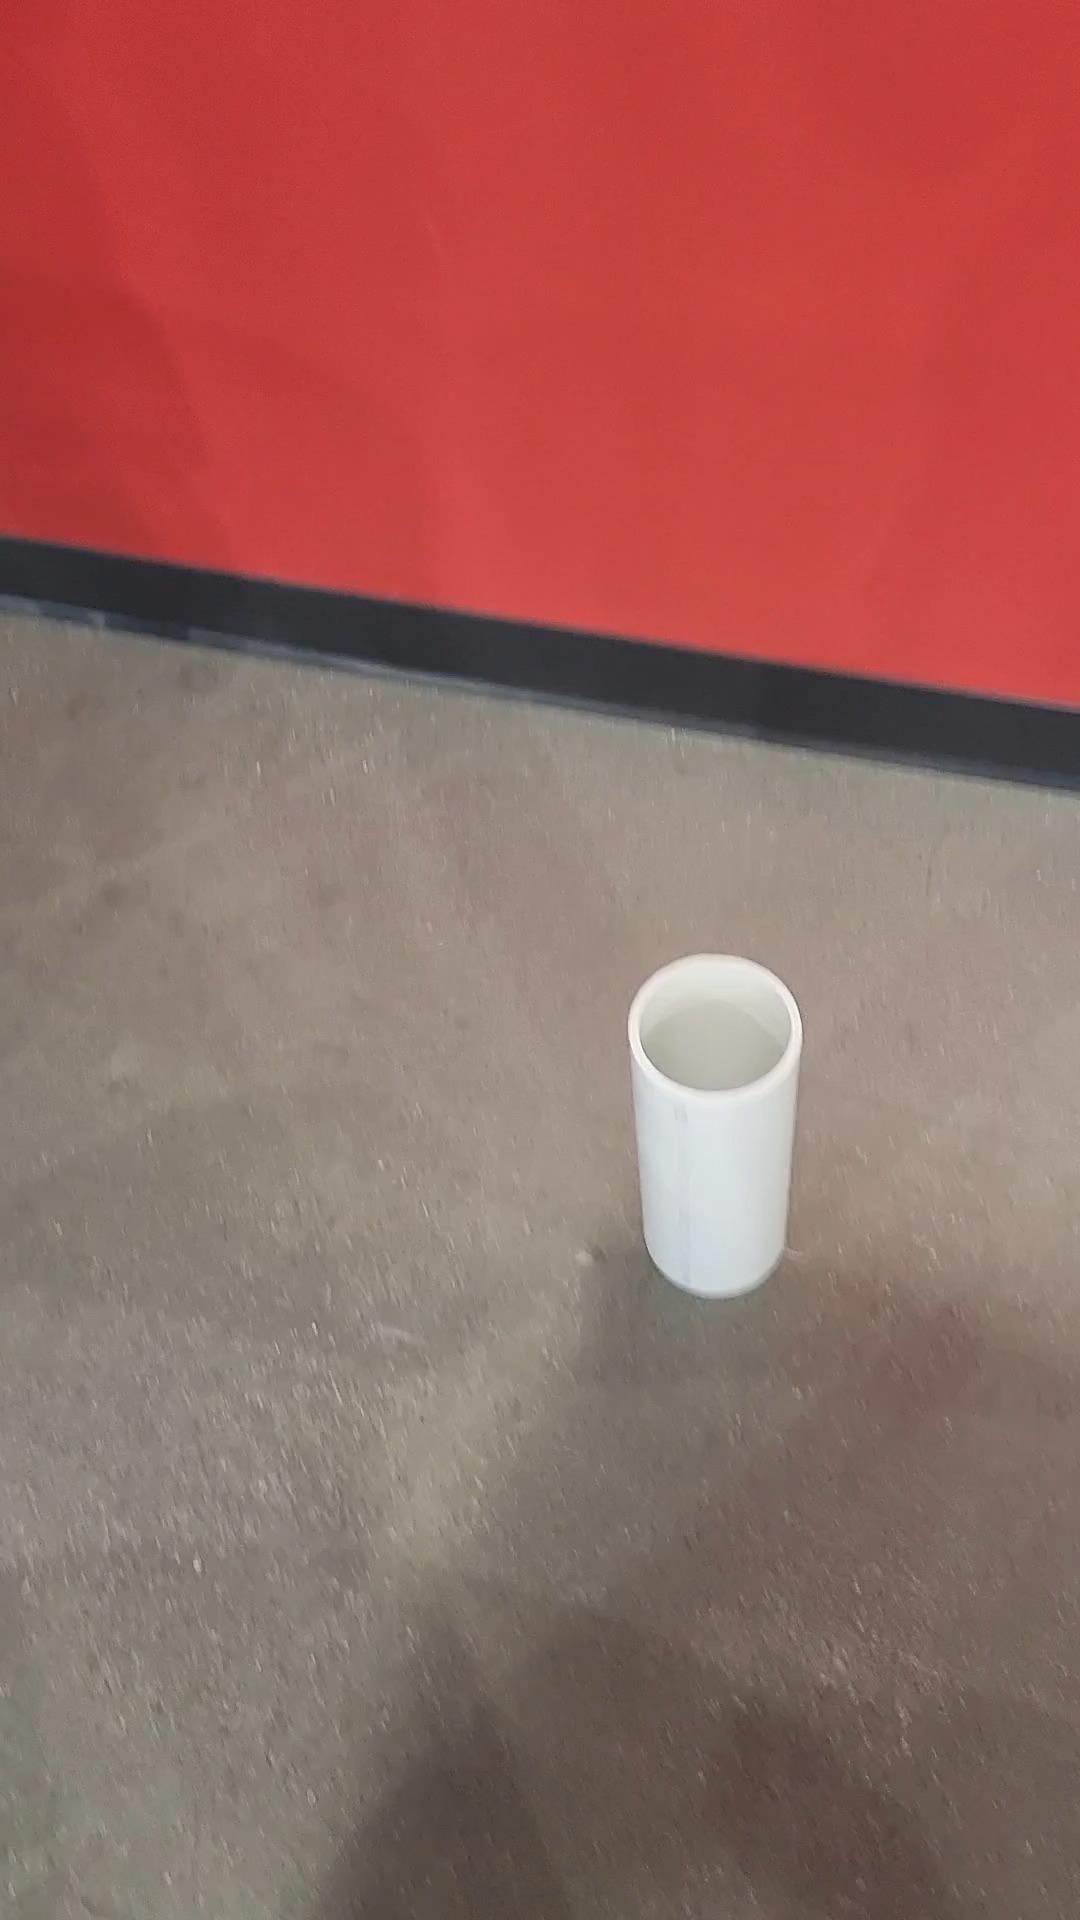coral: (626, 952, 807, 1300)
